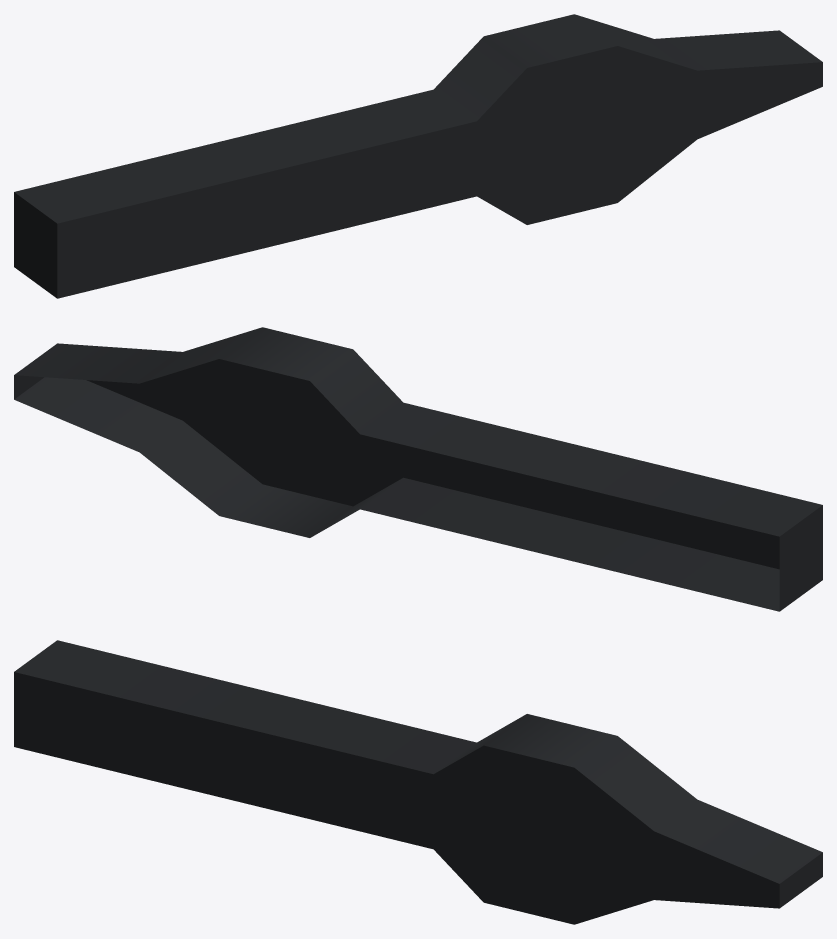
File: SM_Bld_Clock_Tower_MinuteHand_01.fbx
The picture shows the model from 3 angles, top to bottom: view 1: azimuth 30°, elevation 25°; view 2: azimuth 150°, elevation 25°; view 3: azimuth 330°, elevation 25°; orthographic projection.
Visible parts, largest first — view 1: SM_Bld_Clock_Tower_MinuteHand_01; view 2: SM_Bld_Clock_Tower_MinuteHand_01; view 3: SM_Bld_Clock_Tower_MinuteHand_01.
Part boxes in pixels (left/top/right/bottom): SM_Bld_Clock_Tower_MinuteHand_01: left=14, top=14, right=822, bottom=298; SM_Bld_Clock_Tower_MinuteHand_01: left=14, top=327, right=822, bottom=611; SM_Bld_Clock_Tower_MinuteHand_01: left=14, top=640, right=822, bottom=924.
Bounding box in the file's own units: 32.95 × 6.46 × 3.23.
